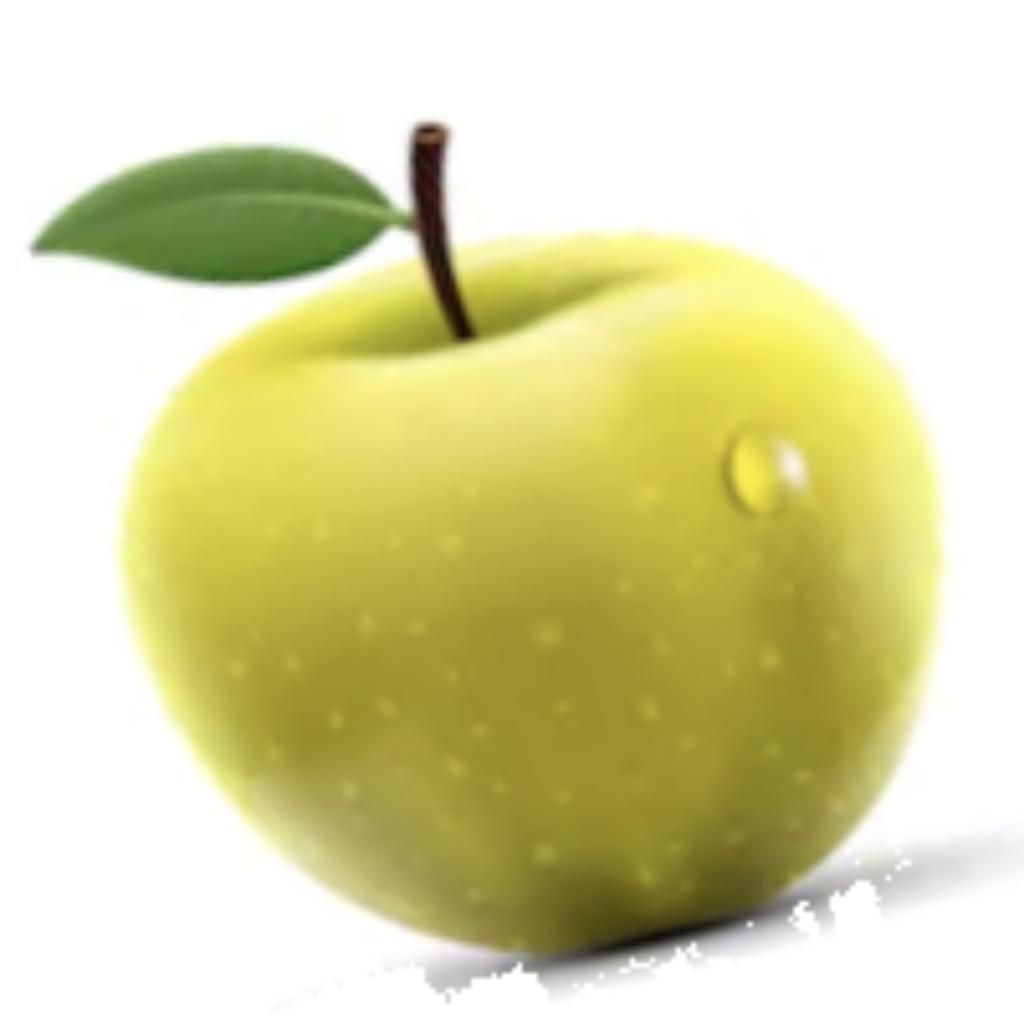apple: (20, 113, 1019, 1004)
